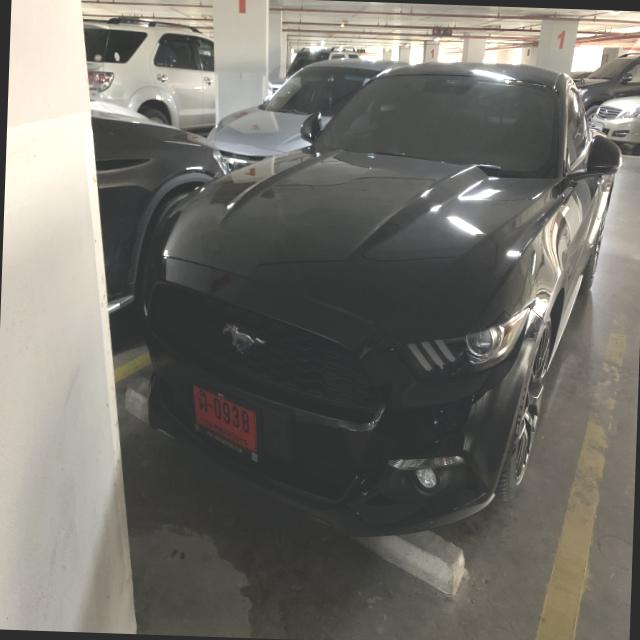license_plate: (184, 376, 267, 464)
